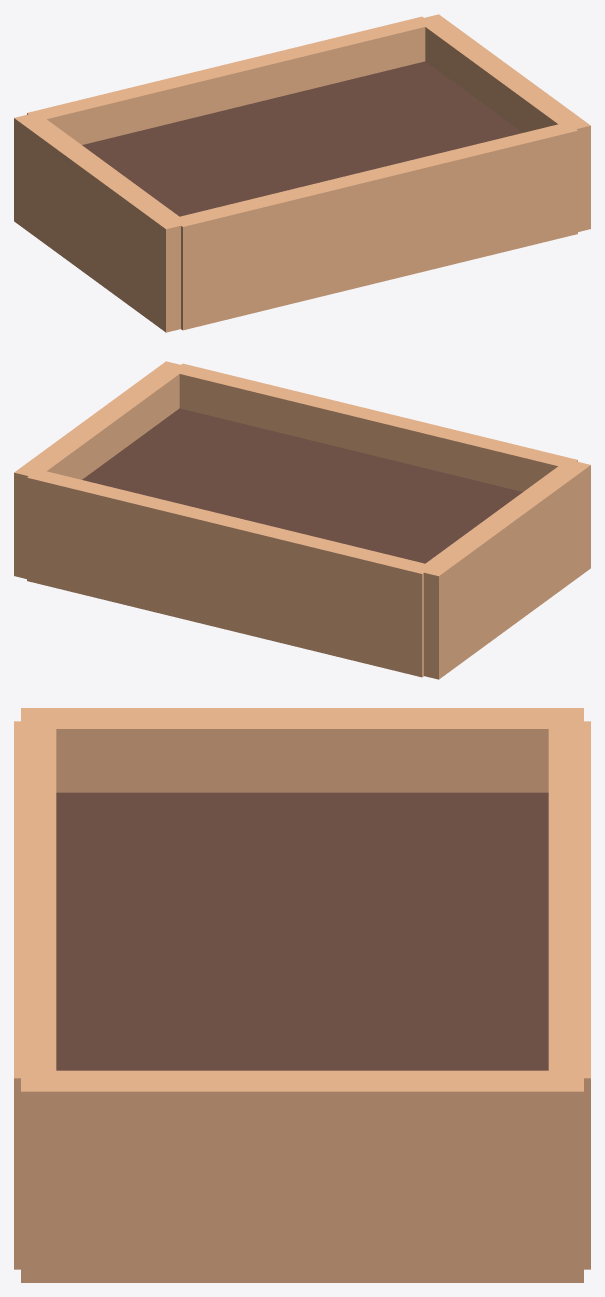
3 renders of one model, top to bottom at view 1: azimuth 30°, elevation 25°; view 2: azimuth 150°, elevation 25°; view 3: azimuth 270°, elevation 25°, orthographic. The views are drawn at different scales.
Visible parts, largest first — view 1: Border.002, Soil, Border, Border.003, Border.001; view 2: Border.003, Soil, Border, Border.002, Border.001; view 3: Soil, Border.001, Border, Border.002, Border.003.
Boxes of the visible parts, bbox=[...] form: Border.002: bbox=[172, 124, 577, 330]; Soil: bbox=[82, 61, 522, 216]; Border: bbox=[14, 112, 186, 332]; Border.003: bbox=[27, 16, 431, 144]; Border.001: bbox=[416, 14, 590, 231]; Border.003: bbox=[27, 471, 432, 677]; Soil: bbox=[82, 408, 522, 563]; Border: bbox=[417, 459, 590, 679]; Border.002: bbox=[172, 363, 577, 491]; Border.001: bbox=[14, 361, 188, 578]; Soil: bbox=[56, 792, 548, 1070]; Border.001: bbox=[21, 1070, 583, 1282]; Border: bbox=[21, 708, 583, 792]; Border.002: bbox=[14, 721, 56, 1269]; Border.003: bbox=[548, 721, 590, 1269].
Bounding box in the file's own units: 1.29 × 0.3 × 0.82.
Materials: 1 (1 with a texture image).
